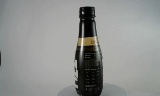appyfizz: (68, 6, 98, 95)
